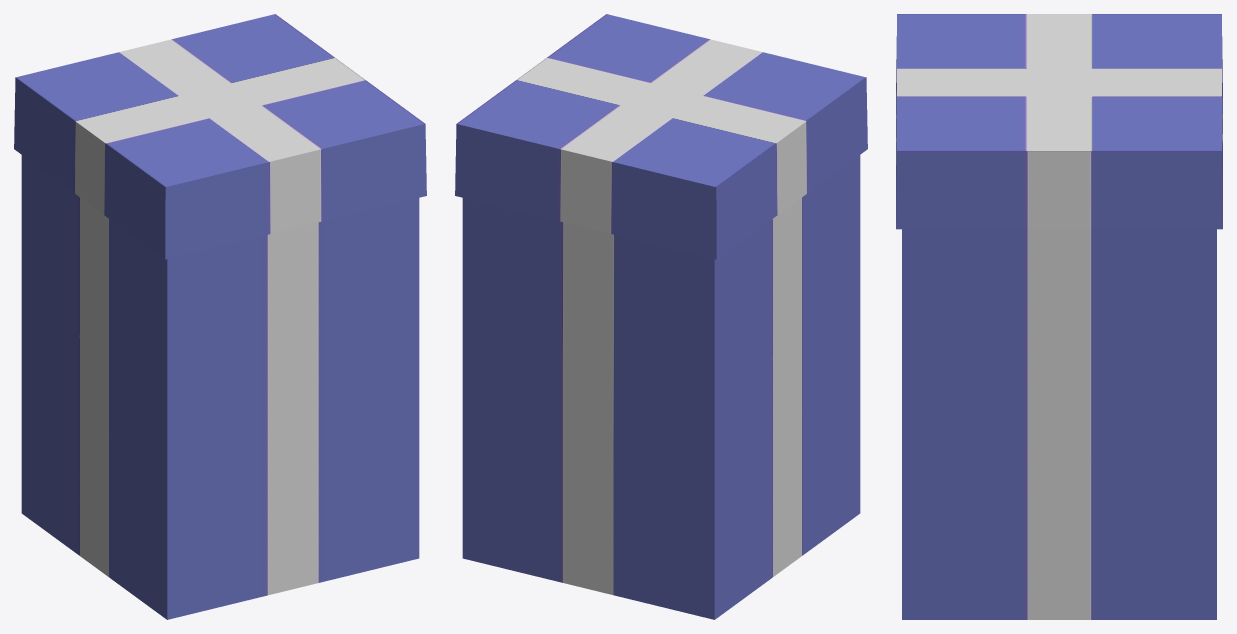
3 views of the same model, side by side, from view 1: azimuth 30°, elevation 25°; view 2: azimuth 150°, elevation 25°; view 3: azimuth 270°, elevation 25° (orthographic). The views are drawn at different scales.
Parts seen in each view (by area): view 1: Cube.009; view 2: Cube.009; view 3: Cube.009.
Part boxes in pixels (x1=…): Cube.009: x1=14, y1=14, x2=426, y2=619; Cube.009: x1=455, y1=14, x2=867, y2=619; Cube.009: x1=896, y1=14, x2=1222, y2=619.
Bounding box in the file's own units: 9576 × 15219 × 9576.
Materials: 5 (3 with a texture image).
